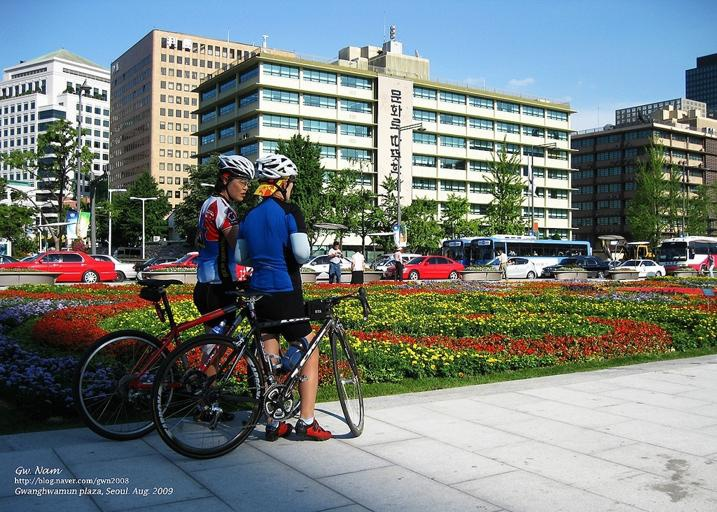non-vehicle: (67, 272, 325, 449), (143, 286, 393, 460)
